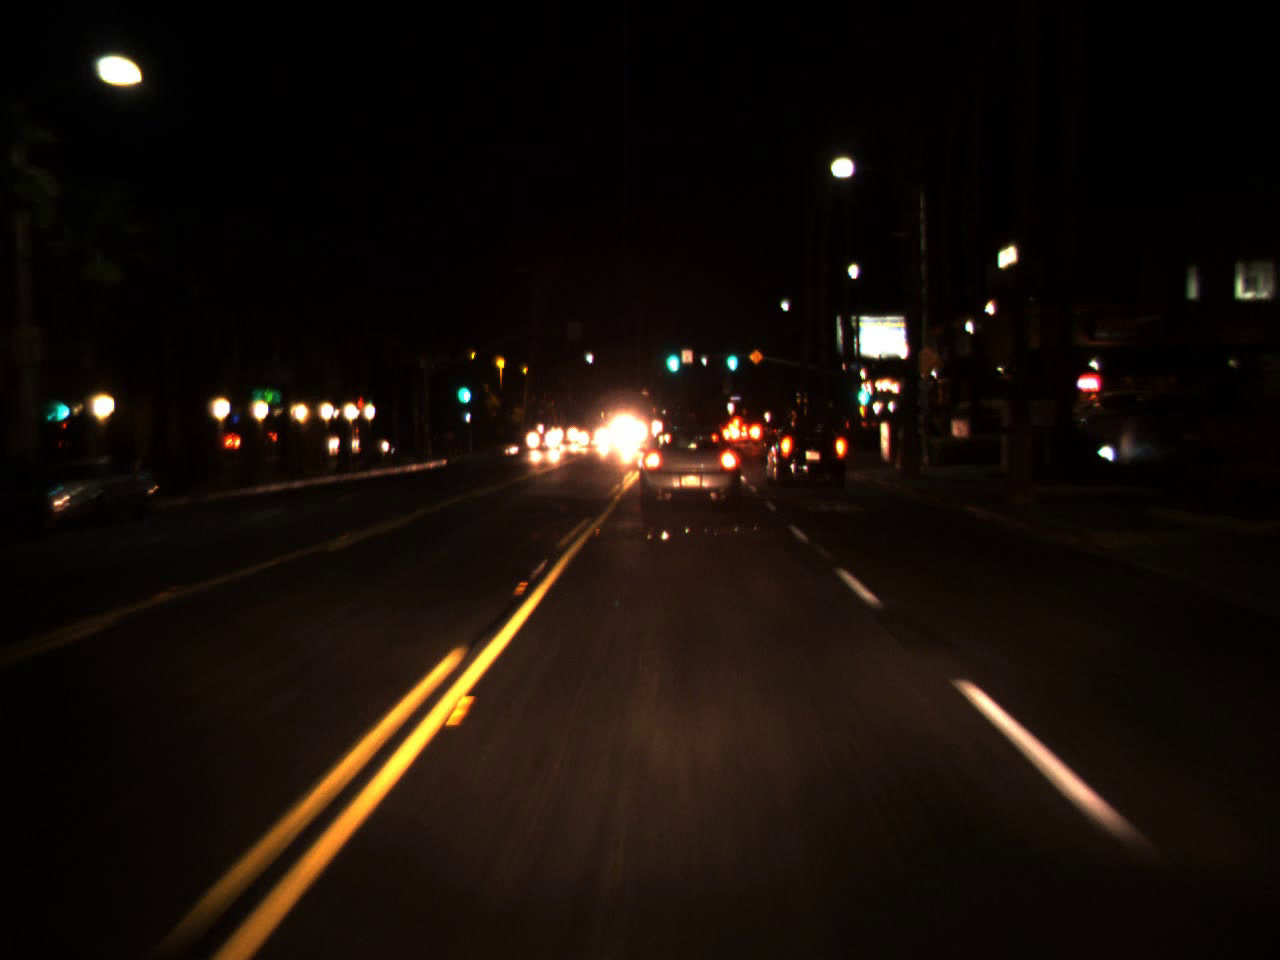go: (850, 366, 873, 411), (662, 333, 681, 378), (453, 367, 472, 409), (723, 338, 739, 374)
